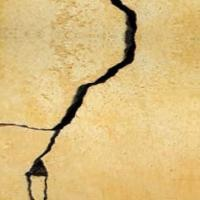crack: (0, 1, 148, 199)
